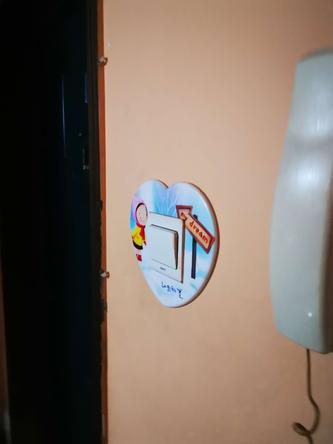switch: (146, 221, 180, 271)
